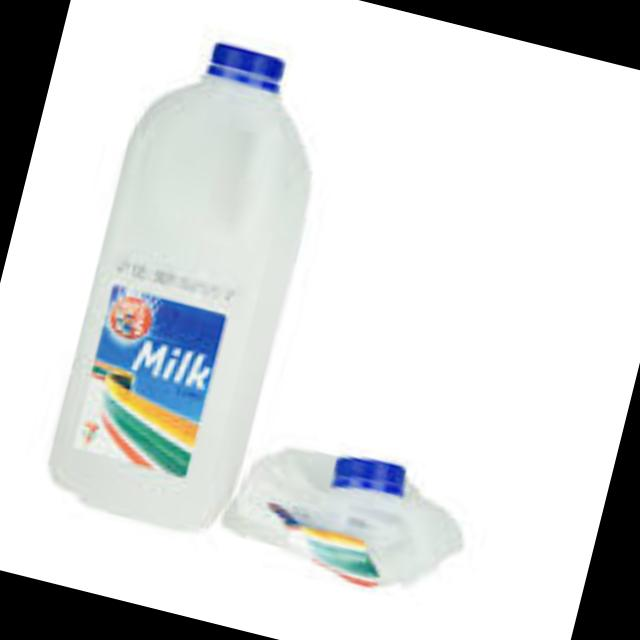plastic: (47, 39, 306, 522), (223, 443, 458, 580)
